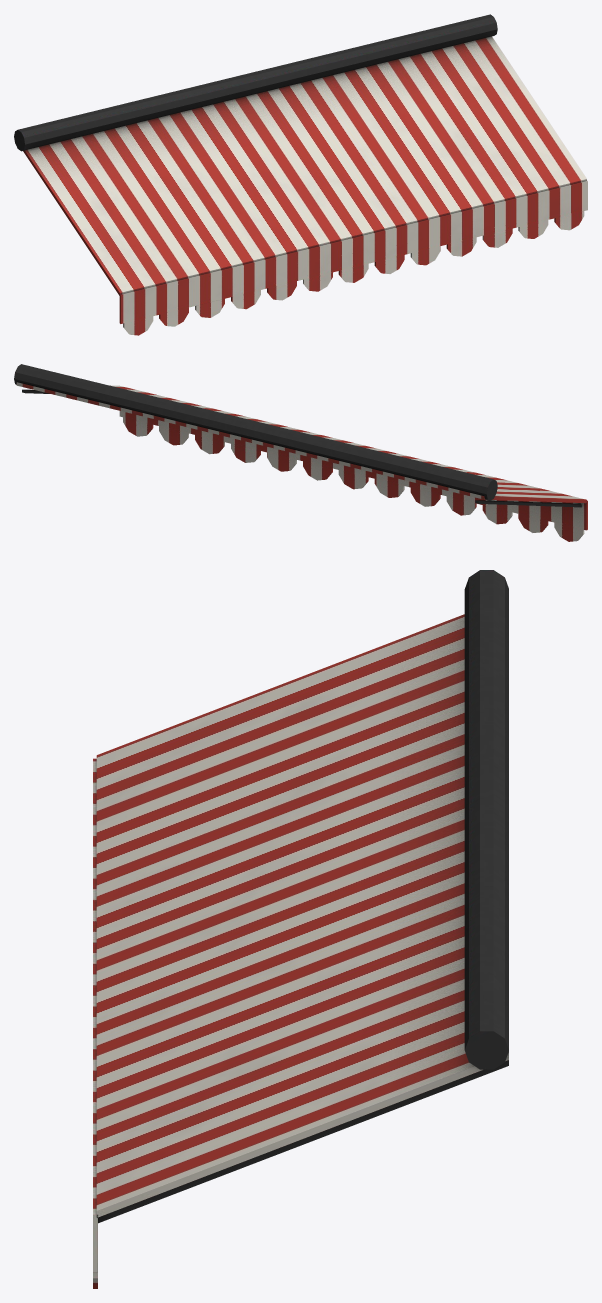
Rendered from awning_34_red.glb.
3 renders of one model, top to bottom at view 1: azimuth 30°, elevation 25°; view 2: azimuth 150°, elevation 25°; view 3: azimuth 270°, elevation 25°, orthographic. The views are drawn at different scales.
Visible parts, largest first — view 1: awning_34_red; view 2: awning_34_red; view 3: awning_34_red.
Part boxes in pixels (x1,y1,x2,y2): awning_34_red: [14, 14, 587, 335]; awning_34_red: [14, 364, 587, 541]; awning_34_red: [93, 570, 508, 1288].
Size of the model in its own units: 3.44 by 0.9566 by 1.31.
Materials: 1 (1 with a texture image).
